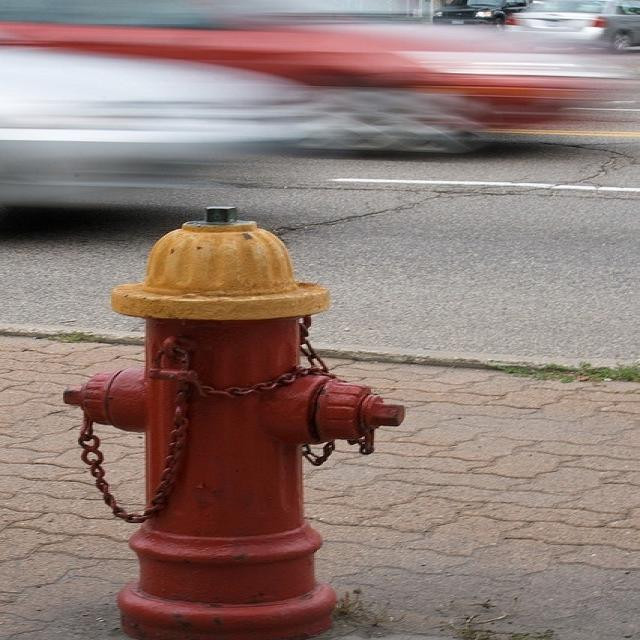fire_hydrant: (67, 187, 384, 640)
